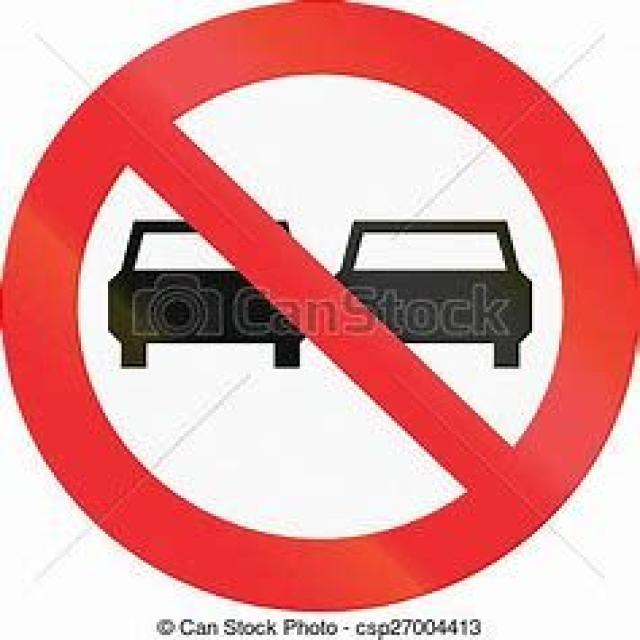no_stop: (0, 0, 637, 609)
